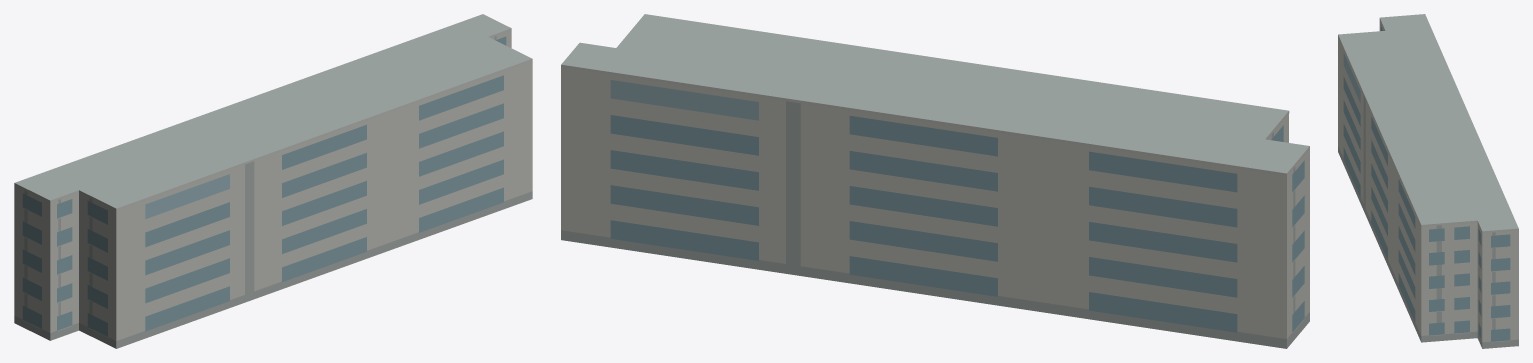
The model's file is residential-d21a8496-4548-4c96-b16b-ee3e2c9de48b.glb.
3 views of the same model, side by side, from view 1: azimuth 30°, elevation 25°; view 2: azimuth 150°, elevation 25°; view 3: azimuth 270°, elevation 25° (orthographic). The views are drawn at different scales.
Parts seen in each view (by area): view 1: residential-d21a8496-4548-4c96-b16b-ee3e2c9de48b.tmp; view 2: residential-d21a8496-4548-4c96-b16b-ee3e2c9de48b.tmp; view 3: residential-d21a8496-4548-4c96-b16b-ee3e2c9de48b.tmp.
Part boxes in pixels (left/top/right/bottom): residential-d21a8496-4548-4c96-b16b-ee3e2c9de48b.tmp: left=14, top=14, right=532, bottom=348; residential-d21a8496-4548-4c96-b16b-ee3e2c9de48b.tmp: left=561, top=14, right=1309, bottom=348; residential-d21a8496-4548-4c96-b16b-ee3e2c9de48b.tmp: left=1338, top=14, right=1518, bottom=348.
Size of the model in its own units: 60.45 by 15.25 by 21.25.
